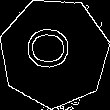O_E: (28, 30, 80, 76)
